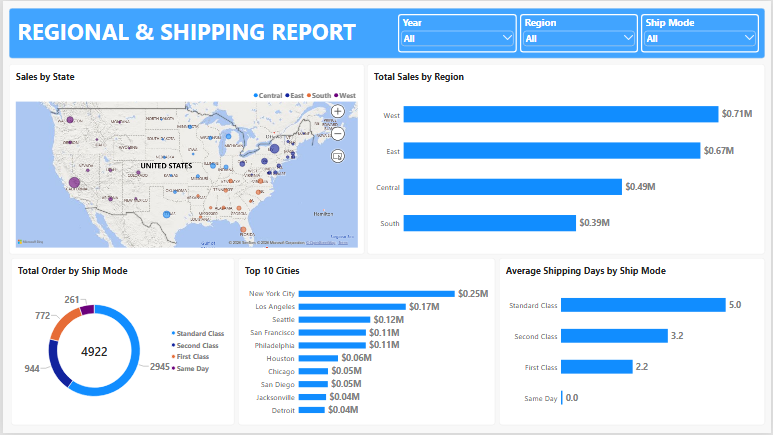

The page's visual inventory and layout, read from the dashboard file:
{"tool":"powerbi","page":{"name":"Reg. & Shipping Report","canvas":[1920,1080],"ordinal":2},"visuals":[{"type":"barChart","title":"Top 10 Cities","fields":{"Category":["Superstore_sales_data_analysis_.City"],"Y":["Superstore_sales_data_analysis_.Total Sales"]},"box":[587.1,642.5,642.5,418.3],"z":3000},{"type":"clusteredBarChart","fields":{"Category":["Superstore_sales_data_analysis_.Region"],"Y":["Superstore_sales_data_analysis_.Total Sales"]},"box":[909.6,158.7,995.3,476.2],"z":4000},{"type":"barChart","fields":{"Category":["Superstore_sales_data_analysis_.Ship Mode"],"Y":["Superstore_sales_data_analysis_.Average Shipping Days"]},"box":[1239.7,642.5,665.2,418.3],"z":5000},{"type":"map","title":"Sales by State","fields":{"Category":["Superstore_sales_data_analysis_.State"],"Series":["Superstore_sales_data_analysis_.Region"],"Size":["Superstore_sales_data_analysis_.Total Sales"]},"box":[15.1,158.7,889.4,476.2],"z":6000},{"type":"donutChart","fields":{"Category":["Superstore_sales_data_analysis_.Ship Mode"],"Y":["Superstore_sales_data_analysis_.Total Order"]},"box":[20.2,642.5,559.4,418.3],"z":7000},{"type":"textbox","box":[15.1,17.6,1889.8,126],"z":8000},{"type":"slicer","fields":{"Values":["Date.Year"]},"box":[987.7,33.4,297.3,95.7],"z":9000},{"type":"slicer","fields":{"Values":["Superstore_sales_data_analysis_.Region"]},"box":[1292.6,33.4,294.8,95.7],"z":10000},{"type":"slicer","fields":{"Values":["Superstore_sales_data_analysis_.Ship Mode"]},"box":[1595,33.4,294.8,95.7],"z":11000}]}

Visuals, with their boxes in screenshot pixels (x1, y1, x2, y2), scaled from the page's 1920x1080 canvas onto the 773x435 screenshot:
"Top 10 Cities" barChart: x1=236, y1=259, x2=495, y2=427
clusteredBarChart - Superstore_sales_data_analysis_.Region x Superstore_sales_data_analysis_.Total Sales: x1=366, y1=64, x2=767, y2=256
barChart - Superstore_sales_data_analysis_.Ship Mode x Superstore_sales_data_analysis_.Average Shipping Days: x1=499, y1=259, x2=767, y2=427
"Sales by State" map: x1=6, y1=64, x2=364, y2=256
donutChart - Superstore_sales_data_analysis_.Ship Mode x Superstore_sales_data_analysis_.Total Order: x1=8, y1=259, x2=233, y2=427
textbox: x1=6, y1=7, x2=767, y2=58
slicer - Date.Year: x1=398, y1=13, x2=517, y2=52
slicer - Superstore_sales_data_analysis_.Region: x1=520, y1=13, x2=639, y2=52
slicer - Superstore_sales_data_analysis_.Ship Mode: x1=642, y1=13, x2=761, y2=52
